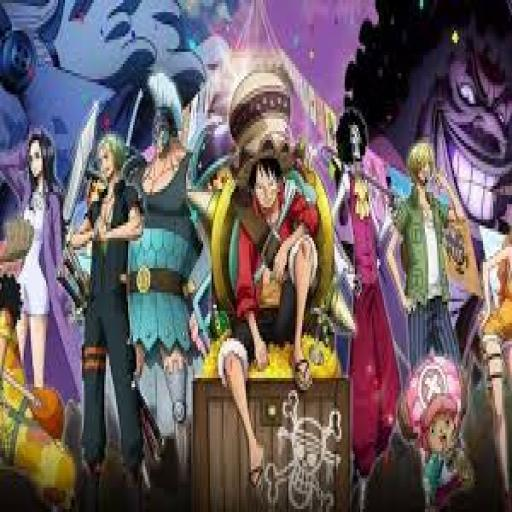Luffy: (213, 116, 333, 496)
NicoRobin: (10, 125, 67, 404)
Zoro: (65, 113, 159, 512)
sanji: (386, 128, 467, 366)
